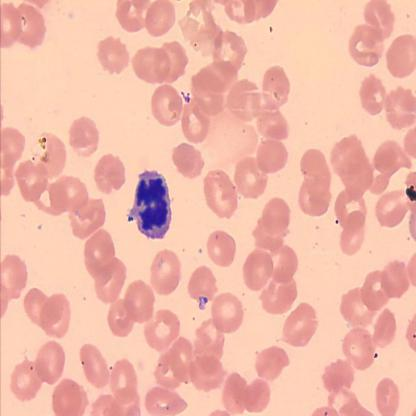NRC: (132, 165, 174, 242)
